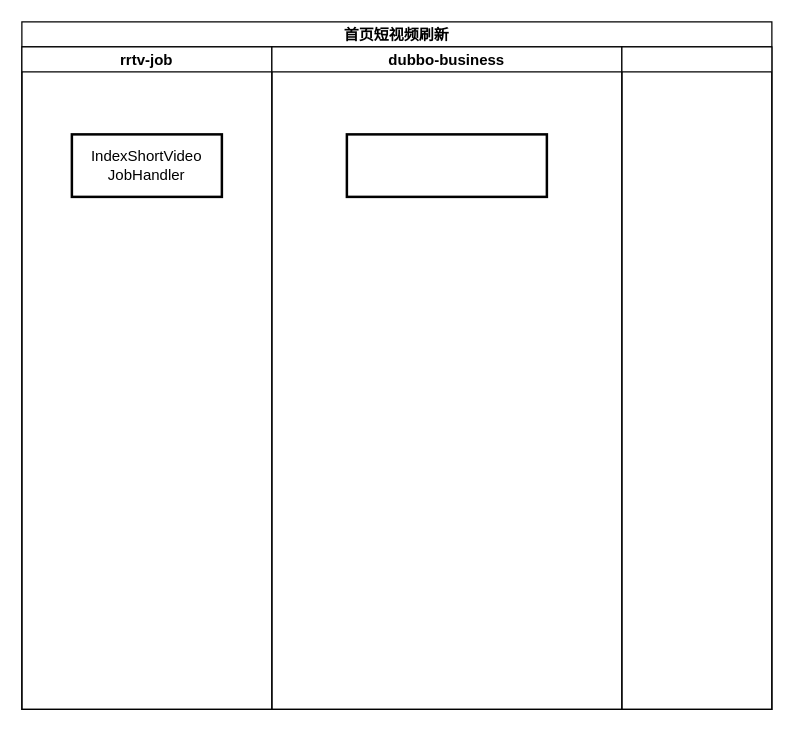
This 794x731 diagram has some shape labels left out. The centre of each missing label's shape, as x and y in pixels:
IndexController# refreshHomePageShortVideo: [446,165]
Lane 3: [696,377]
